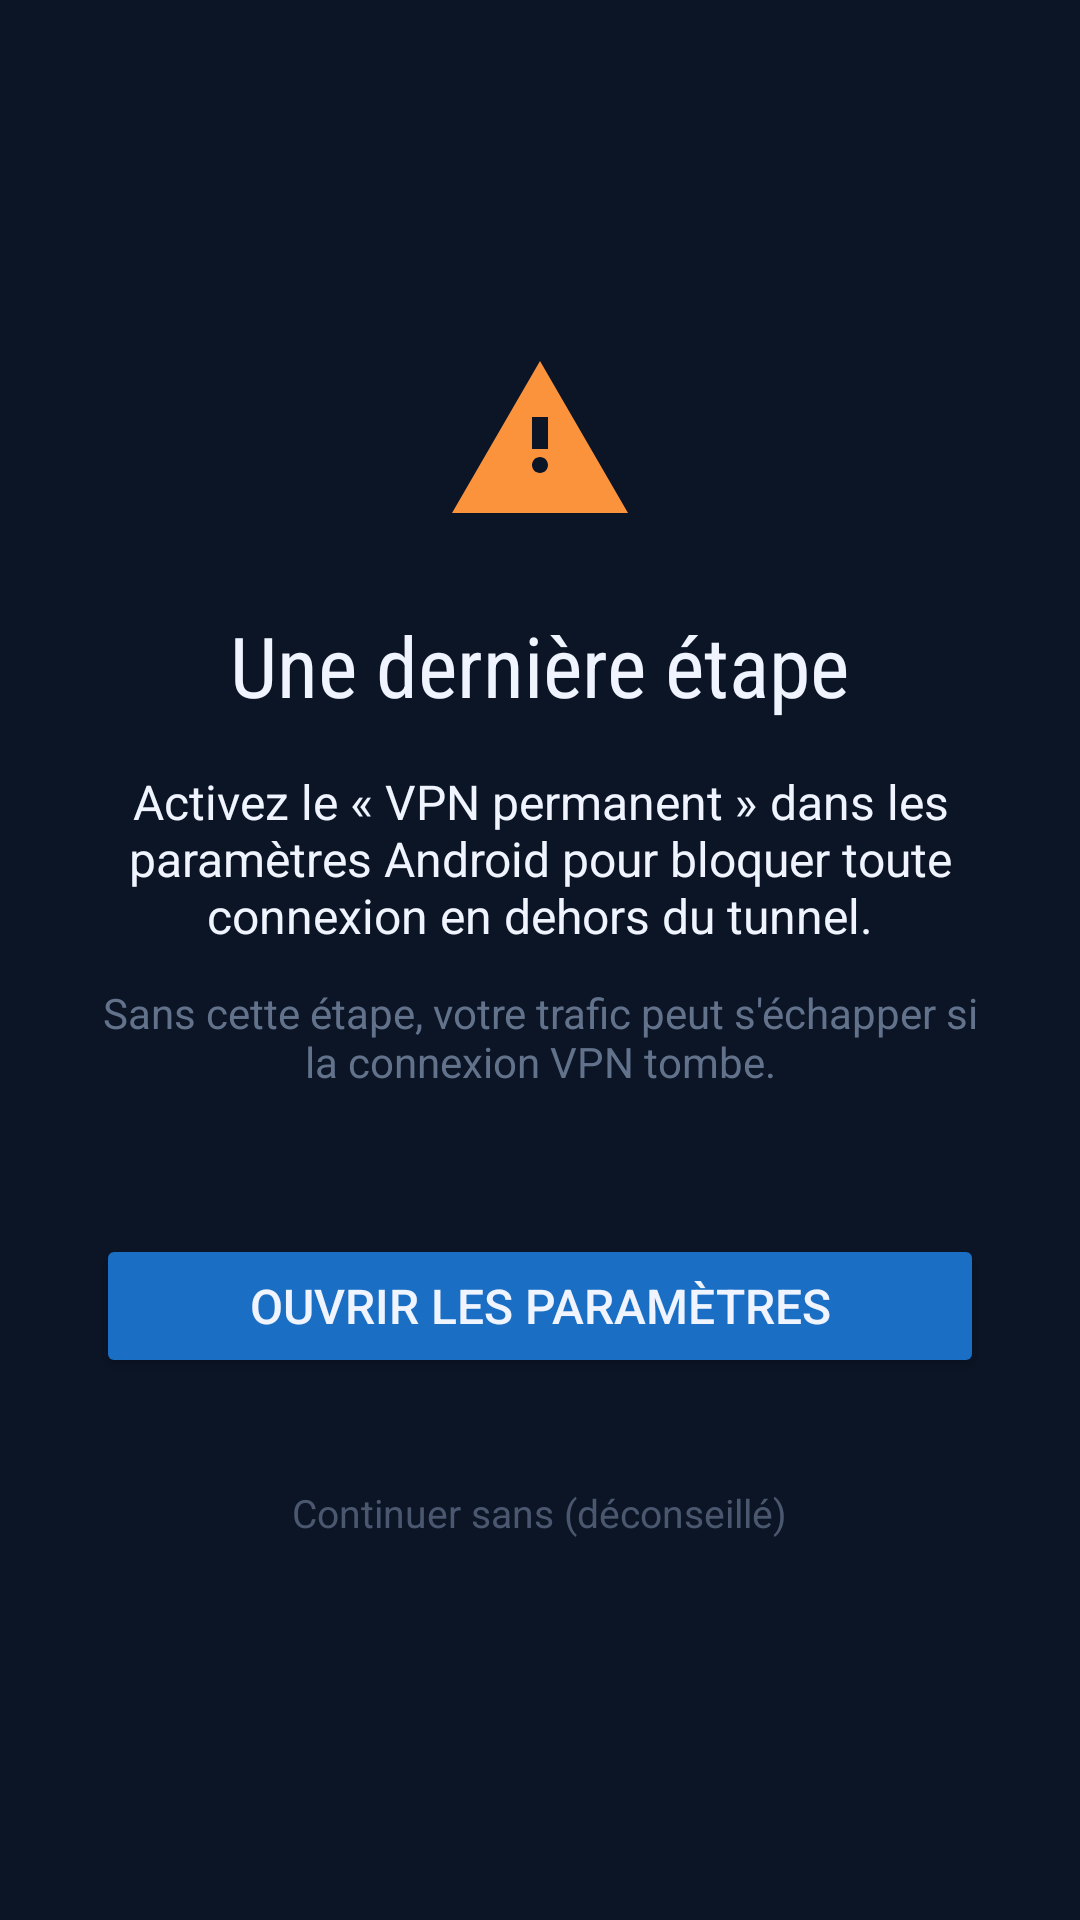

Where to tap for icons on this 1080px x 1920px app screen, as (x,y):
Avertissement protection incomplète: (540,437)
